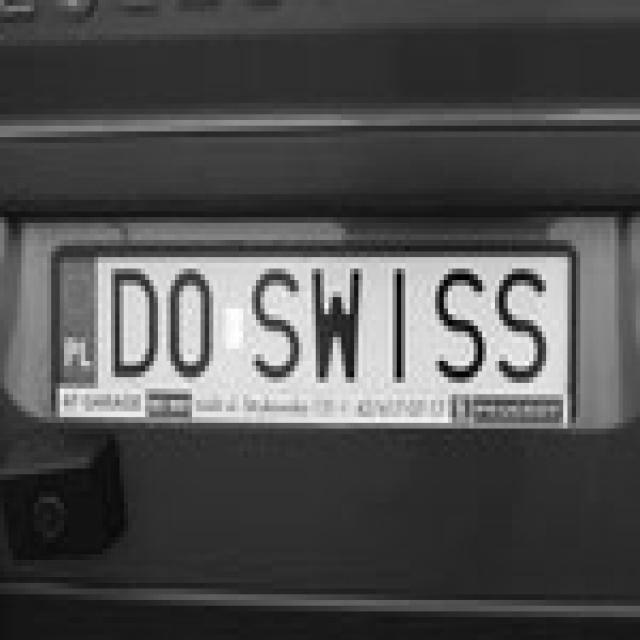License_Plate: (50, 239, 580, 423)
